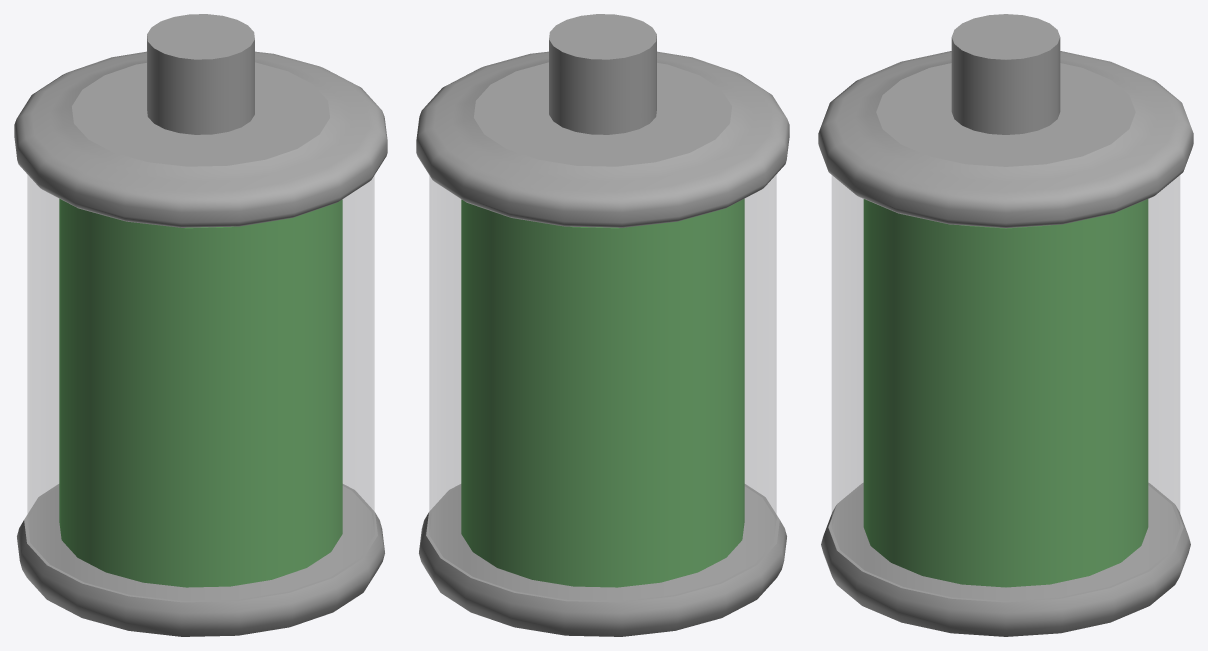
Rendered from Test_Chamber.fbx.
The picture shows the model from 3 angles, left to right: view 1: azimuth 30°, elevation 25°; view 2: azimuth 150°, elevation 25°; view 3: azimuth 270°, elevation 25°; orthographic projection.
Parts seen in each view (by area): view 1: Test_Chamber; view 2: Test_Chamber; view 3: Test_Chamber.
Part boxes in pixels (<box>): Test_Chamber: <box>14,14,387,636</box>; Test_Chamber: <box>416,14,789,636</box>; Test_Chamber: <box>818,14,1193,636</box>.
Bounding box in the file's own units: 180 × 278 × 180.
